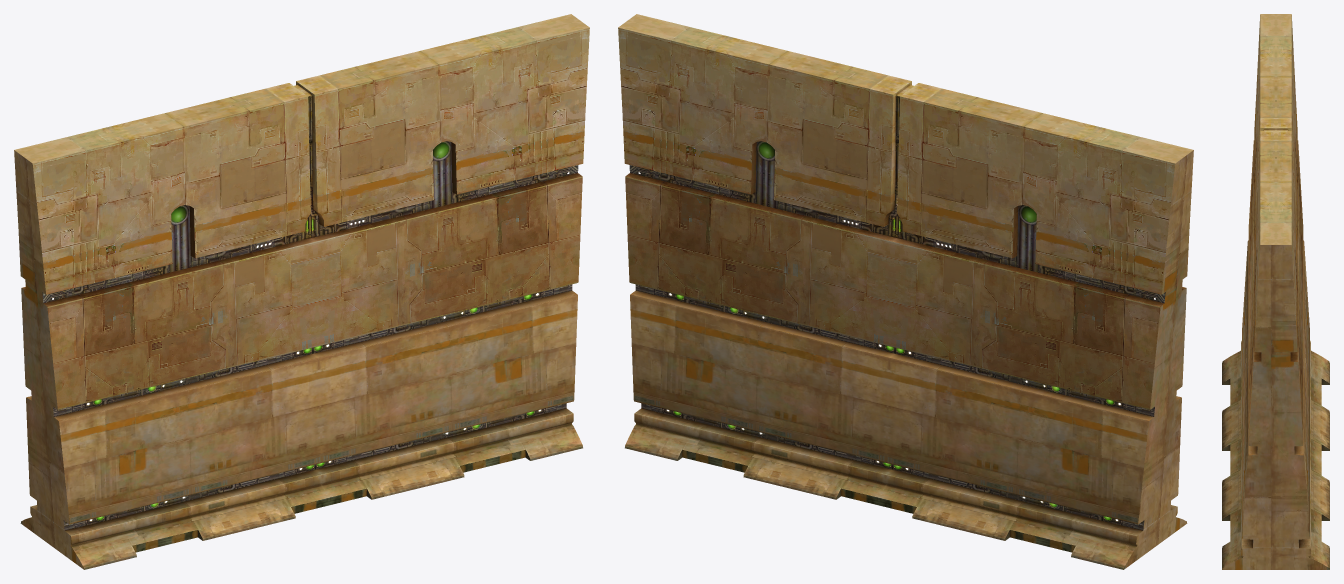
The model's file is all_arch_und_wall_20m_wall.glb.
3 renders of one model, left to right at view 1: azimuth 30°, elevation 25°; view 2: azimuth 150°, elevation 25°; view 3: azimuth 270°, elevation 25°, orthographic. The views are drawn at different scales.
Visible parts, largest first — view 1: all_arch_und_wall_20m_wall; view 2: all_arch_und_wall_20m_wall; view 3: all_arch_und_wall_20m_wall.
Boxes of the visible parts, x1=… form: all_arch_und_wall_20m_wall: x1=14, y1=14, x2=589, y2=569; all_arch_und_wall_20m_wall: x1=618, y1=14, x2=1193, y2=569; all_arch_und_wall_20m_wall: x1=1222, y1=14, x2=1329, y2=569.
Bounding box in the file's own units: 4.42 × 3.01 × 0.8718.
Materials: 3 (3 with a texture image).
